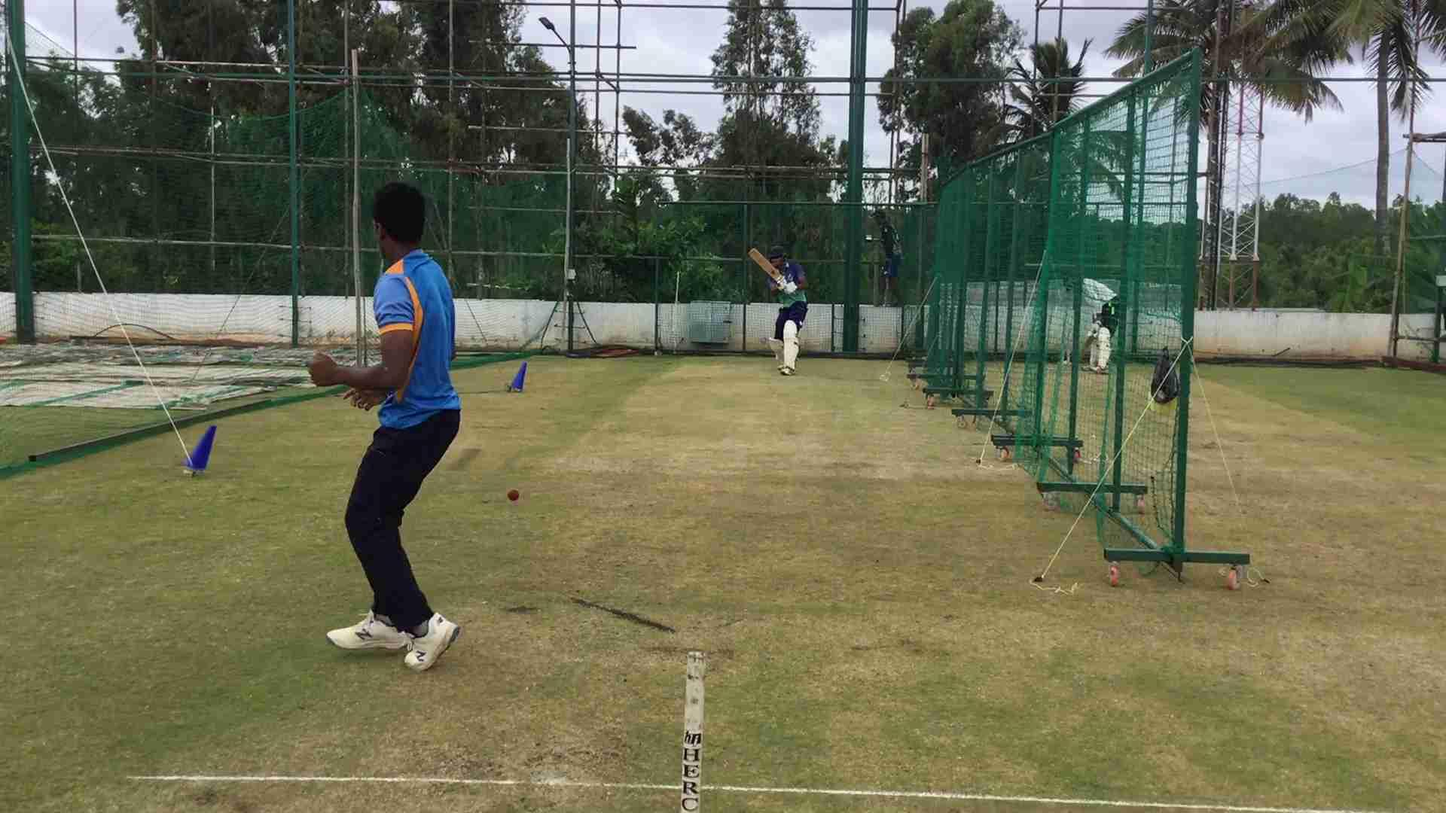batsman: (761, 237, 807, 382)
